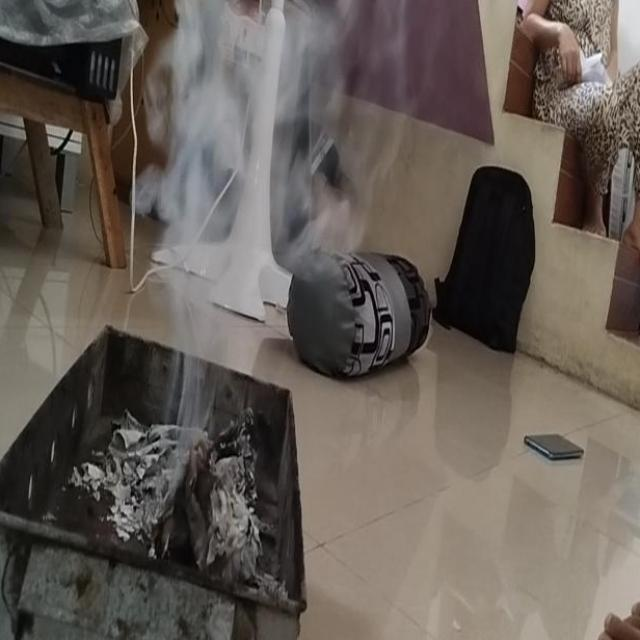fire: (155, 0, 342, 353)
